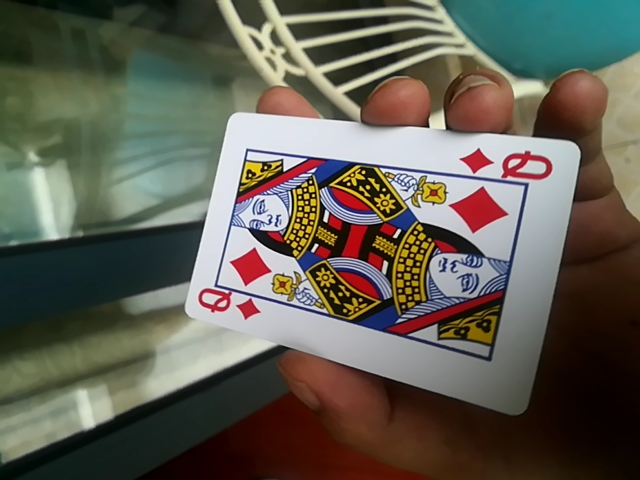fk q: (181, 111, 585, 416)
